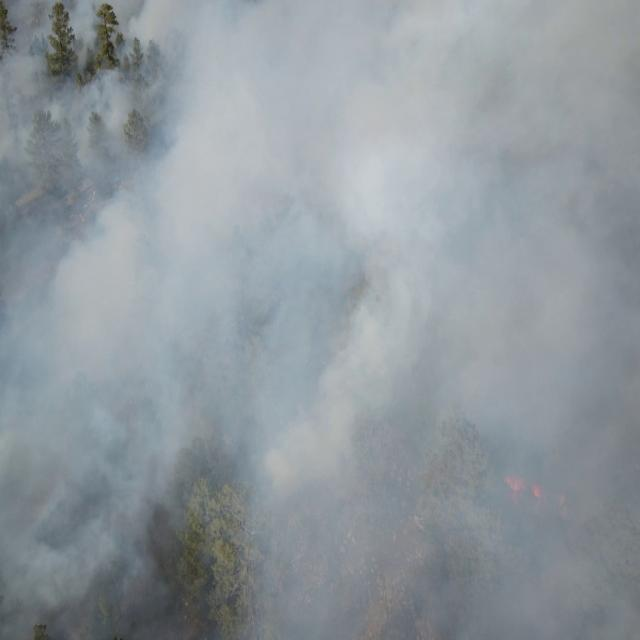fire: (506, 468, 542, 510), (554, 488, 572, 528)
smoke: (0, 0, 640, 640)
